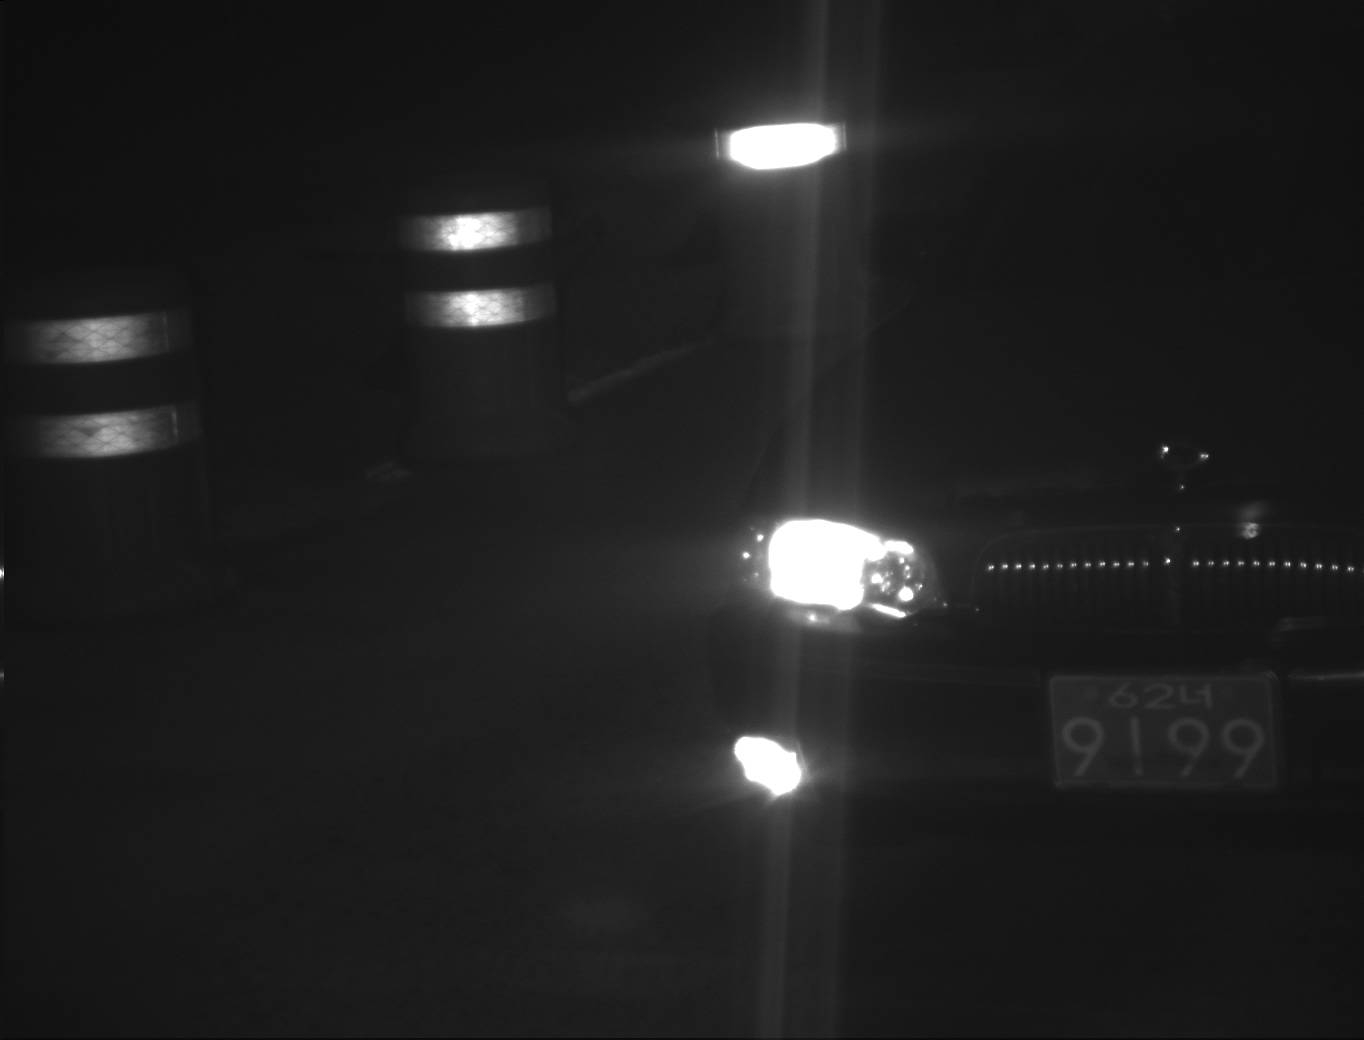car: (710, 50, 1362, 886)
plate: (1043, 672, 1286, 792)
